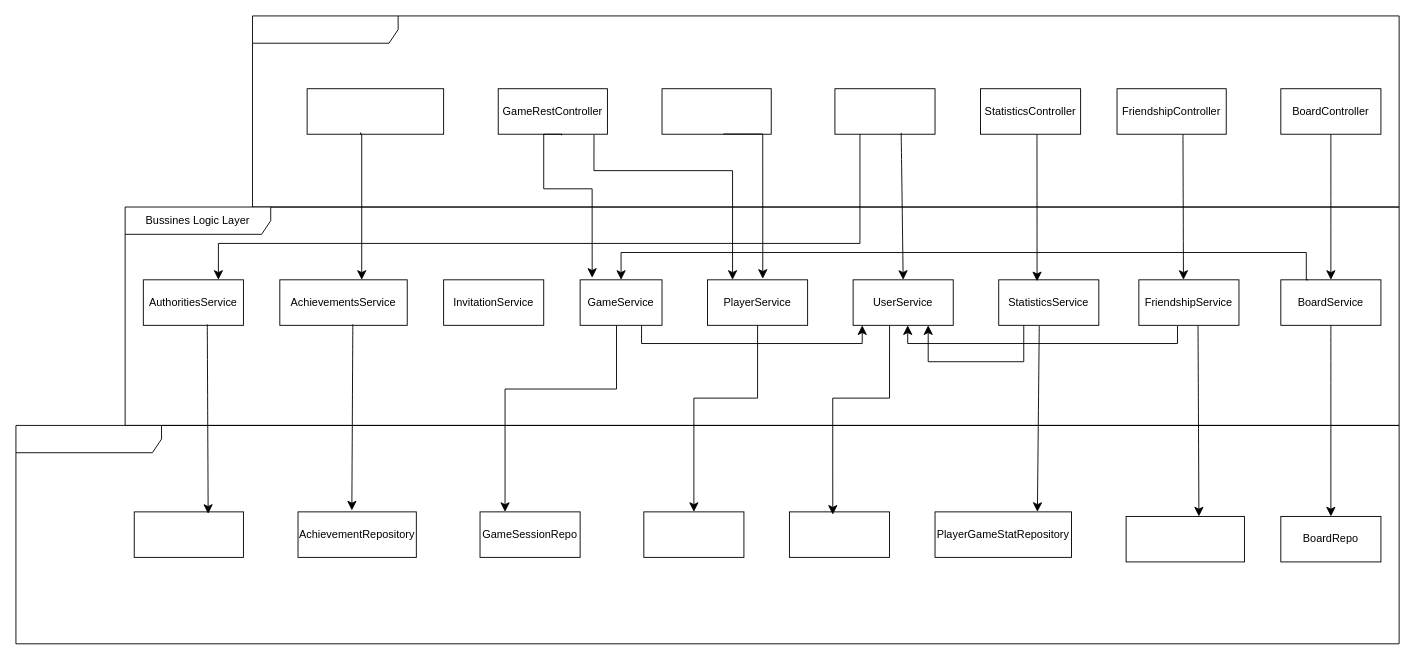
Image size: 1415x660. Some labels were removed from this diagram. Each missing label, with the box of its shape:
AchievementRestController: (306, 88, 444, 134)
AuthoritiesRepository: (133, 511, 243, 557)
FriendshipRepository: (1125, 516, 1244, 562)
PlayerRepository: (643, 511, 744, 557)
PlayerRestController: (661, 88, 771, 134)
Presentation Layer: (252, 15, 1399, 207)
Resources Layer: (15, 425, 1399, 644)
UserRepository: (789, 511, 890, 557)
UserRestController: (834, 88, 935, 134)
